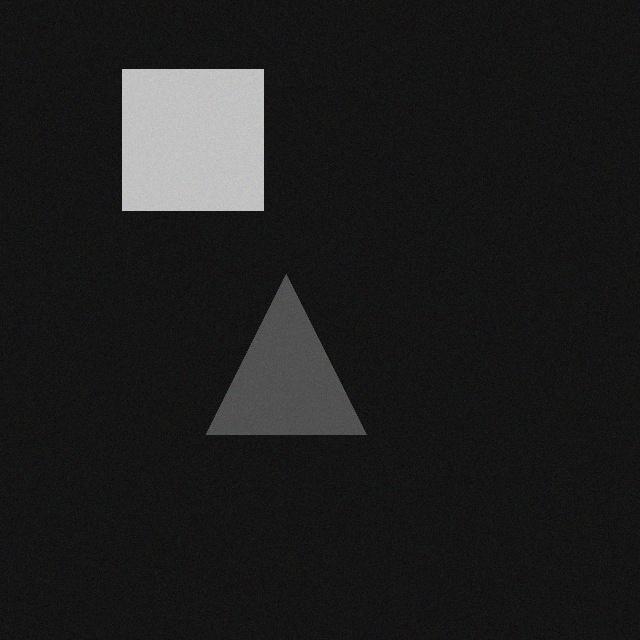square: (134, 82, 275, 223)
triangle: (218, 287, 378, 447)
